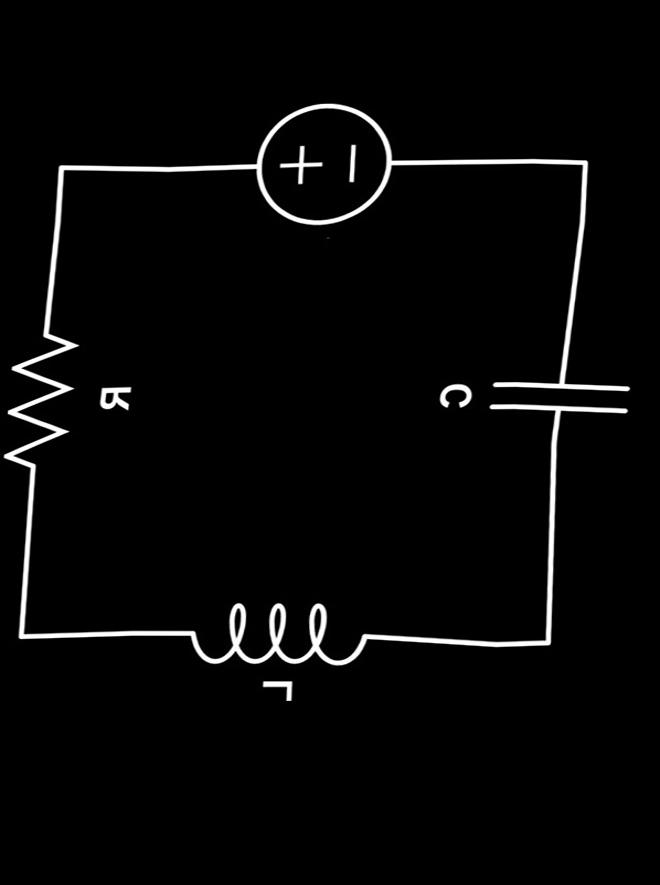Battery: (207, 79, 434, 254)
